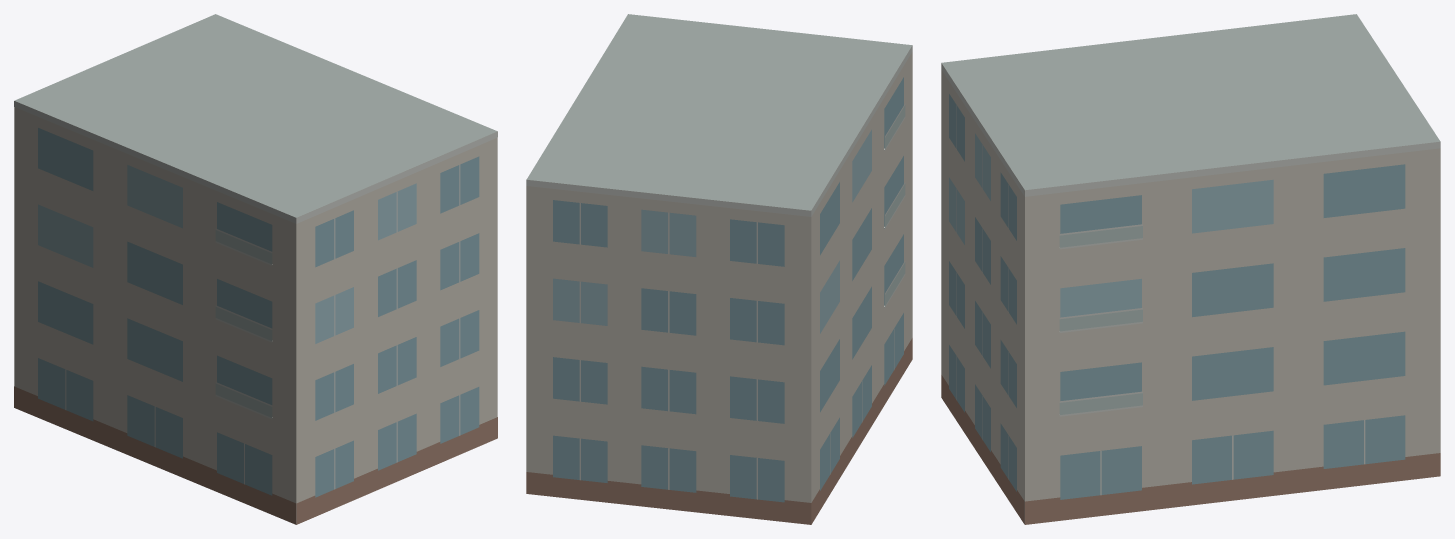
File: residential-eb14a9e8-3ebf-4df6-9fba-7f5565122c96.glb
3 views of the same model, side by side, from view 1: azimuth 30°, elevation 25°; view 2: azimuth 150°, elevation 25°; view 3: azimuth 270°, elevation 25° (orthographic). The views are drawn at different scales.
Visible parts, largest first — view 1: residential-eb14a9e8-3ebf-4df6-9fba-7f5565122c96.tmp; view 2: residential-eb14a9e8-3ebf-4df6-9fba-7f5565122c96.tmp; view 3: residential-eb14a9e8-3ebf-4df6-9fba-7f5565122c96.tmp.
Part boxes in pixels (<box>): residential-eb14a9e8-3ebf-4df6-9fba-7f5565122c96.tmp: <box>14,14,497,524</box>; residential-eb14a9e8-3ebf-4df6-9fba-7f5565122c96.tmp: <box>526,14,912,524</box>; residential-eb14a9e8-3ebf-4df6-9fba-7f5565122c96.tmp: <box>941,14,1440,524</box>.
Bounding box in the file's own units: 13.79 × 12.2 × 16.51.
